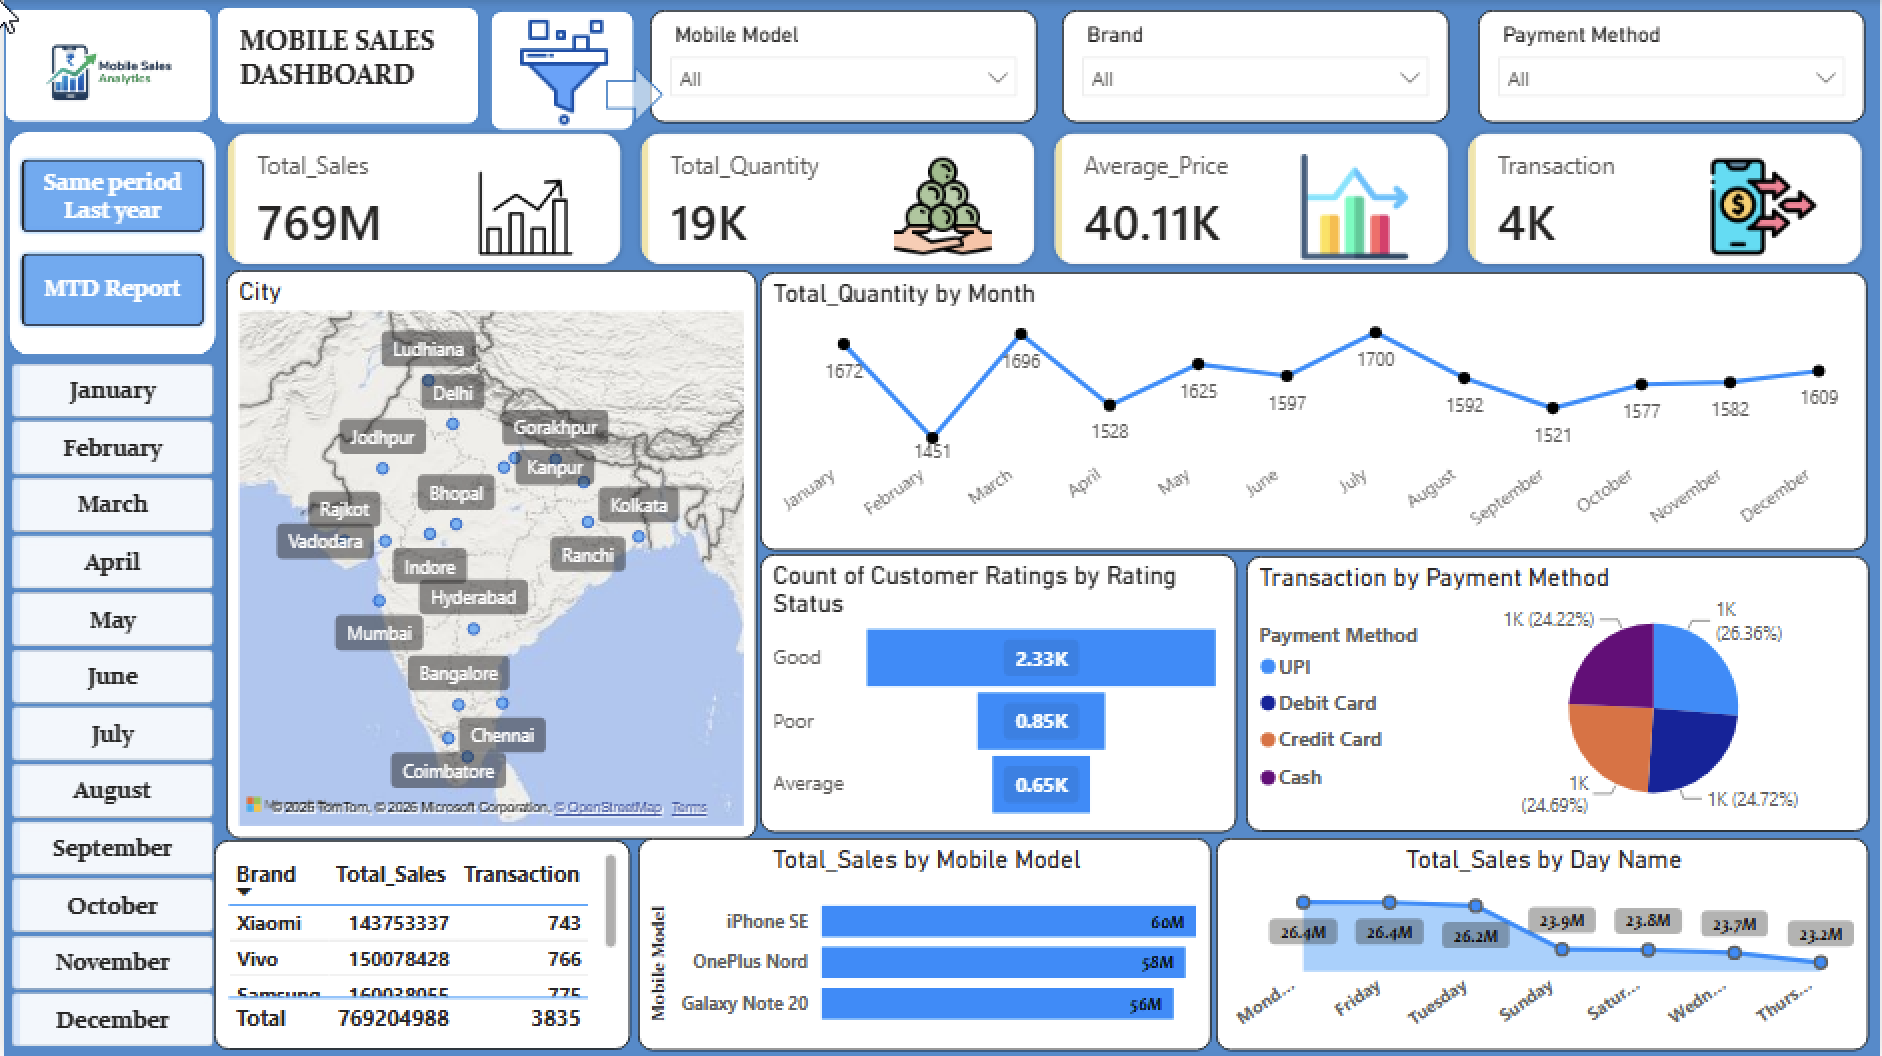

Layout of this report page (visuals, bound fields, positions):
{"tool":"powerbi","page":{"name":"Dashboard ","canvas":[1280,720],"ordinal":0},"visuals":[{"type":"shape","box":[0,5.8,142,78.3],"z":0},{"type":"image","box":[0,0,148.3,103.7],"z":1000},{"type":"shape","box":[2.9,89.3,142.6,154.1],"z":2000},{"type":"advancedSlicerVisual","fields":{"Values":["Custom_Calendar.Date.Variation.Date Hierarchy.Month"]},"box":[0,243.4,148.3,476.6],"z":4000},{"type":"cardVisual","fields":{"Data":["Sales_Data.Total_Sales","Sales_Data.Total_Quantity","Sales_Data.Average_Price","Sales_Data.Transaction"]},"box":[140.6,79.7,1139.1,113],"z":5000},{"type":"image","box":[1146.4,104.3,105.8,72.5],"z":6000},{"type":"image","box":[875.4,104.3,91.3,72.5],"z":7000},{"type":"image","box":[594.2,104.3,91.3,71],"z":8000},{"type":"image","box":[301.4,104.3,108.7,81.2],"z":9000},{"type":"slicer","fields":{"Values":["Sales_Data.Mobile Model"]},"box":[440.6,7.2,263.8,76.8],"z":10000},{"type":"slicer","fields":{"Values":["Sales_Data.Brand"]},"box":[721.7,7.2,263.8,76.8],"z":11000},{"type":"slicer","fields":{"Values":["Sales_Data.Payment Method"]},"box":[1004.3,7.2,263.8,76.8],"z":12000},{"type":"shape","box":[331.9,7.2,98.6,82.6],"z":13000},{"type":"image","box":[340.6,11.6,81.2,73.9],"z":14000},{"type":"shape","box":[410.1,44.9,39.1,39.1],"z":15000},{"type":"shape","box":[144.9,4.3,179.7,81.2],"z":16000},{"type":"textbox","box":[155.5,11.5,159.8,67.7],"z":17000},{"type":"map","fields":{"Category":["Sales_Data.City"]},"box":[150.7,184.1,362.3,388.4],"z":18000},{"type":"lineChart","fields":{"Category":["Custom_Calendar.Date.Variation.Date Hierarchy.Month"],"Y":["Sales_Data.Total_Quantity"]},"box":[515.9,185.5,755.1,189.9],"z":19000},{"type":"funnel","fields":{"Category":["Sales_Data.Rating Status"],"Y":["CountNonNull(Sales_Data.Customer Ratings)"]},"box":[515.9,378.3,324.6,189.9],"z":20000},{"type":"pieChart","fields":{"Y":["Sales_Data.Transaction"],"Category":["Sales_Data.Payment Method"]},"box":[846.4,379.7,424.6,188.4],"z":21000},{"type":"clusteredBarChart","fields":{"Y":["Sales_Data.Total_Sales"],"Category":["Sales_Data.Mobile Model"]},"box":[431.9,571,391.3,144.9],"z":22000},{"type":"areaChart","fields":{"Category":["Custom_Calendar.Day Name"],"Y":["Sales_Data.Total_Sales"]},"box":[826.1,571,444.9,144.9],"z":23000},{"type":"tableEx","fields":{"Values":["Sales_Data.Brand","Sales_Data.Total_Sales","Sales_Data.Transaction"]},"box":[143.5,572.5,284.1,143.5],"z":24000},{"type":"pageNavigator","box":[10.1,106.6,129.6,119.5],"z":24001}]}

Visuals, with their boxes in screenshot pixels (x1, y1, x2, y2), scaled from the page's 1280x720 canvas onto the 1882x1056 screenshot:
shape: <bbox>0, 9, 209, 123</bbox>
image: <bbox>0, 0, 218, 152</bbox>
shape: <bbox>4, 131, 214, 357</bbox>
advancedSlicerVisual - Custom_Calendar.Date.Variation.Date Hierarchy.Month: <bbox>0, 357, 218, 1055</bbox>
cardVisual - Sales_Data.Total_Sales x Sales_Data.Total_Quantity: <bbox>207, 117, 1881, 283</bbox>
image: <bbox>1686, 153, 1841, 259</bbox>
image: <bbox>1287, 153, 1421, 259</bbox>
image: <bbox>874, 153, 1008, 257</bbox>
image: <bbox>443, 153, 603, 272</bbox>
slicer - Sales_Data.Mobile Model: <bbox>648, 11, 1036, 123</bbox>
slicer - Sales_Data.Brand: <bbox>1061, 11, 1449, 123</bbox>
slicer - Sales_Data.Payment Method: <bbox>1477, 11, 1865, 123</bbox>
shape: <bbox>488, 11, 633, 132</bbox>
image: <bbox>501, 17, 620, 125</bbox>
shape: <bbox>603, 66, 660, 123</bbox>
shape: <bbox>213, 6, 477, 125</bbox>
textbox: <bbox>229, 17, 464, 116</bbox>
map - Sales_Data.City: <bbox>222, 270, 754, 840</bbox>
lineChart - Custom_Calendar.Date.Variation.Date Hierarchy.Month x Sales_Data.Total_Quantity: <bbox>759, 272, 1869, 551</bbox>
funnel - Sales_Data.Rating Status x CountNonNull(Sales_Data.Customer Ratings): <bbox>759, 555, 1236, 833</bbox>
pieChart - Sales_Data.Transaction x Sales_Data.Payment Method: <bbox>1244, 557, 1869, 833</bbox>
clusteredBarChart - Sales_Data.Total_Sales x Sales_Data.Mobile Model: <bbox>635, 837, 1210, 1050</bbox>
areaChart - Custom_Calendar.Day Name x Sales_Data.Total_Sales: <bbox>1215, 837, 1869, 1050</bbox>
tableEx - Sales_Data.Brand x Sales_Data.Total_Sales: <bbox>211, 840, 629, 1050</bbox>
pageNavigator: <bbox>15, 156, 205, 332</bbox>
